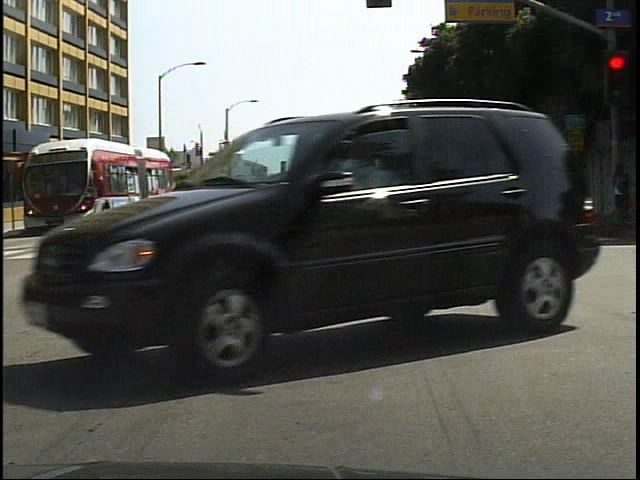car: (0, 62, 626, 385)
